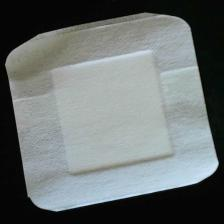Dressing: (4, 11, 221, 214)
